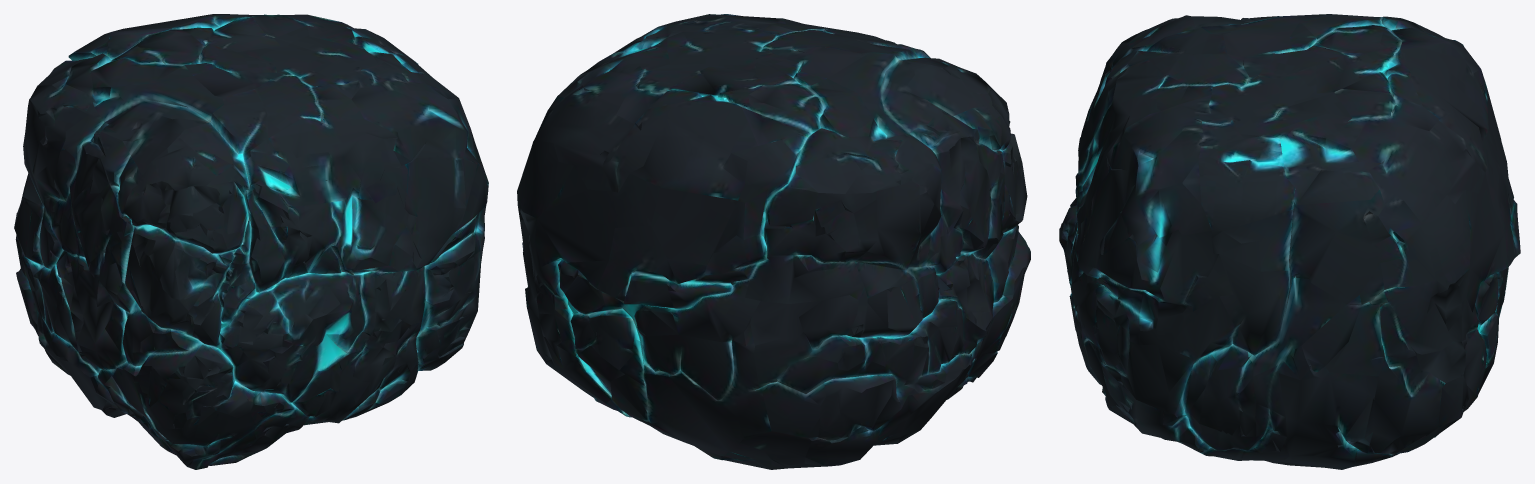
Rendered from mx_tr_crystal_rock.glb.
3 views of the same model, side by side, from view 1: azimuth 30°, elevation 25°; view 2: azimuth 150°, elevation 25°; view 3: azimuth 270°, elevation 25° (orthographic). The views are drawn at different scales.
Size of the model in its own units: 1.91 by 1.65 by 1.87.
1 material, 1 textured.
